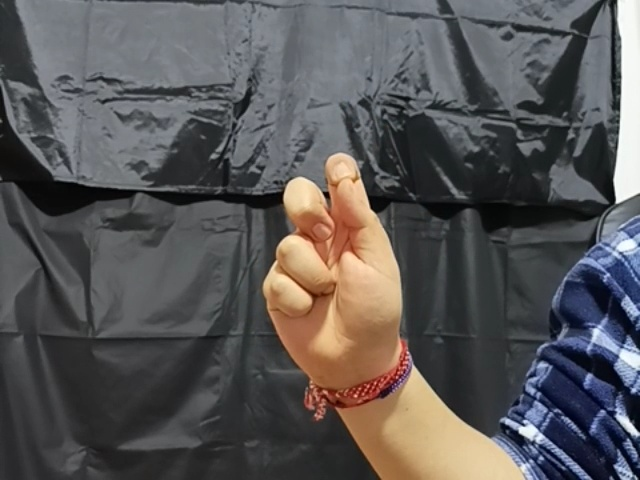T: (256, 150, 416, 361)
